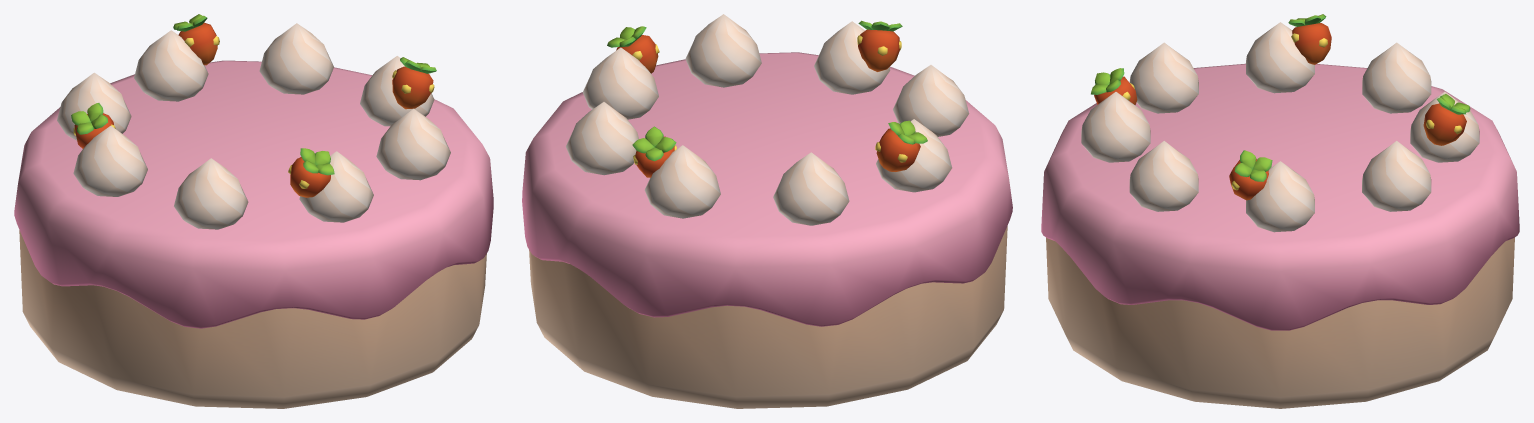
Rendered from cake_strawberry.obj.
The picture shows the model from 3 angles, left to right: view 1: azimuth 30°, elevation 25°; view 2: azimuth 150°, elevation 25°; view 3: azimuth 270°, elevation 25°; orthographic projection. The views are drawn at different scales.
Parts seen in each view (by area): view 1: cake_strawberry; view 2: cake_strawberry; view 3: cake_strawberry.
Part boxes in pixels (x1,y1,x2,y2): cake_strawberry: [14, 14, 493, 408]; cake_strawberry: [522, 14, 1012, 408]; cake_strawberry: [1041, 14, 1519, 408].
Size of the model in its own units: 1.22 by 0.6687 by 1.22.
1 material, 1 textured.
